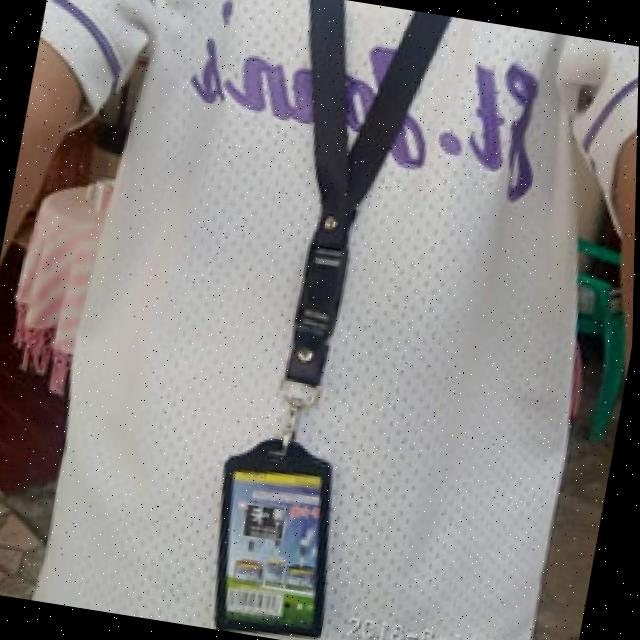id_card: (183, 0, 442, 640)
